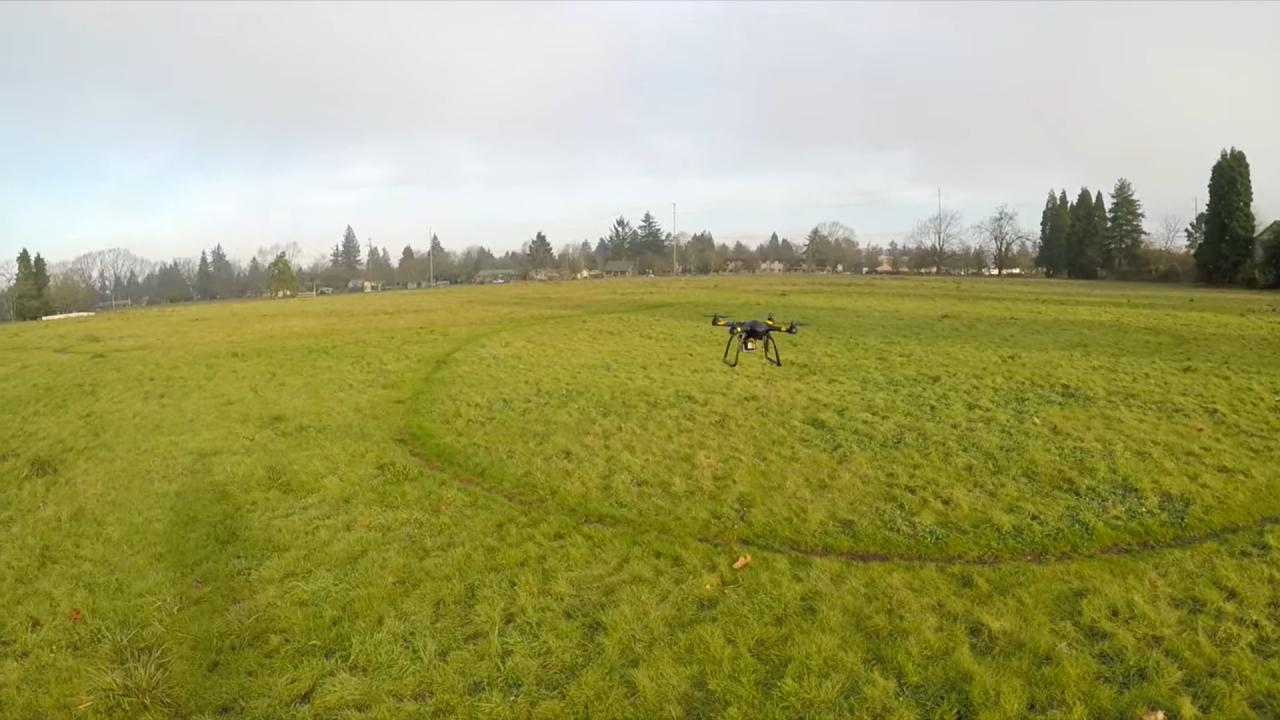Drone: (694, 306, 818, 380)
